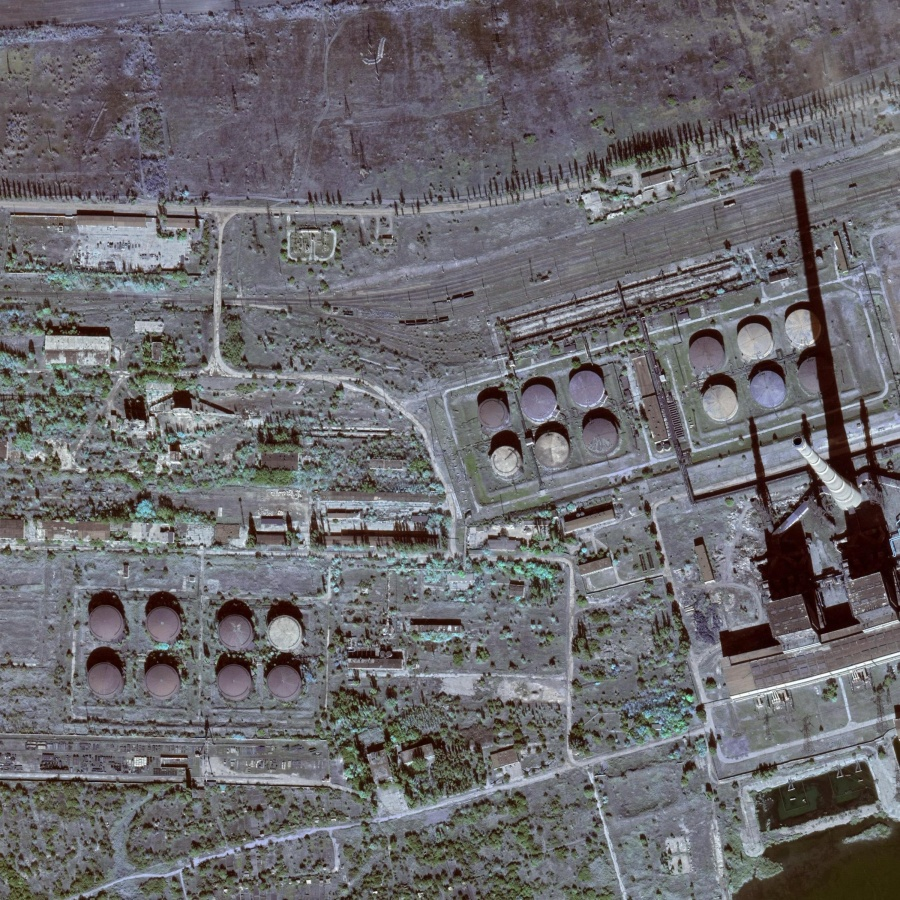PowerPlant: (53, 551, 323, 729), (440, 340, 647, 516)
